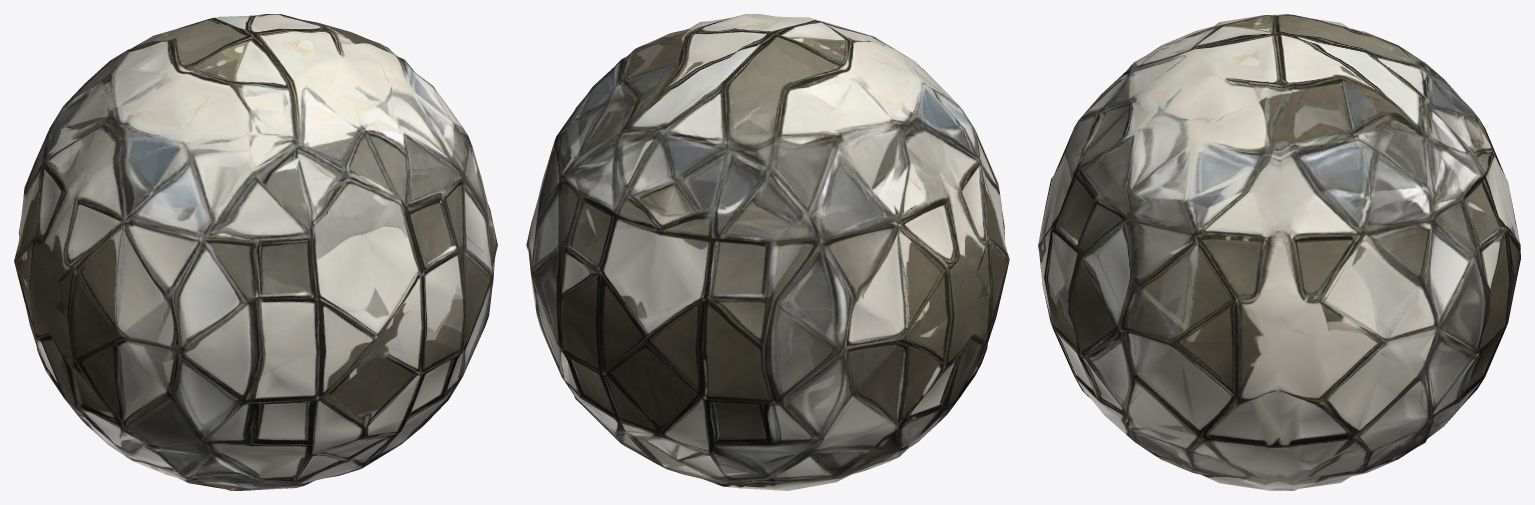
The model's file is testSphereStarSilver.glb.
The picture shows the model from 3 angles, left to right: view 1: azimuth 30°, elevation 25°; view 2: azimuth 150°, elevation 25°; view 3: azimuth 270°, elevation 25°; orthographic projection.
Visible parts, largest first — view 1: Mesh_0; view 2: Mesh_0; view 3: Mesh_0.
Boxes of the visible parts, bbox=[...] form: Mesh_0: bbox=[14, 14, 497, 490]; Mesh_0: bbox=[526, 14, 1009, 490]; Mesh_0: bbox=[1038, 14, 1520, 490].
Size of the model in its own units: 0.986 by 1 by 1.
Materials: 1 (1 with a texture image).
